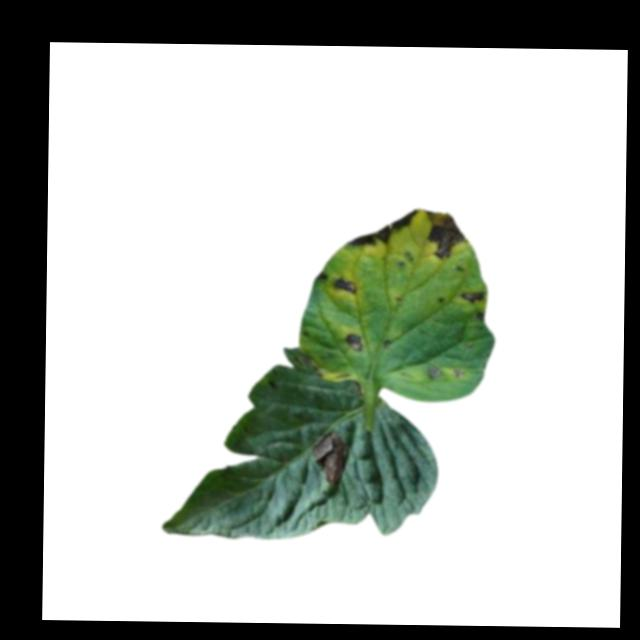Early_blight: (347, 208, 420, 249), (311, 430, 350, 486), (428, 210, 468, 261), (333, 276, 358, 297), (343, 332, 365, 352), (460, 290, 485, 305), (476, 311, 487, 324), (316, 271, 327, 282)
